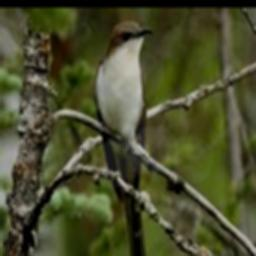Cuckoo: (94, 20, 149, 256)
